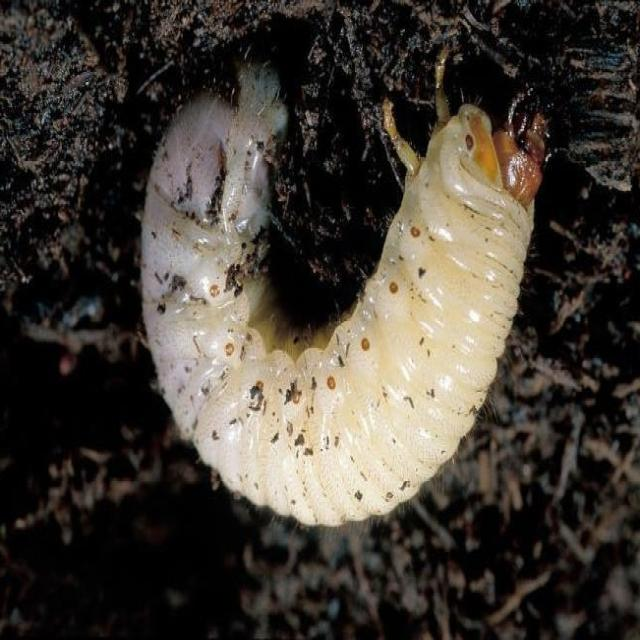grub: (146, 73, 554, 525)
